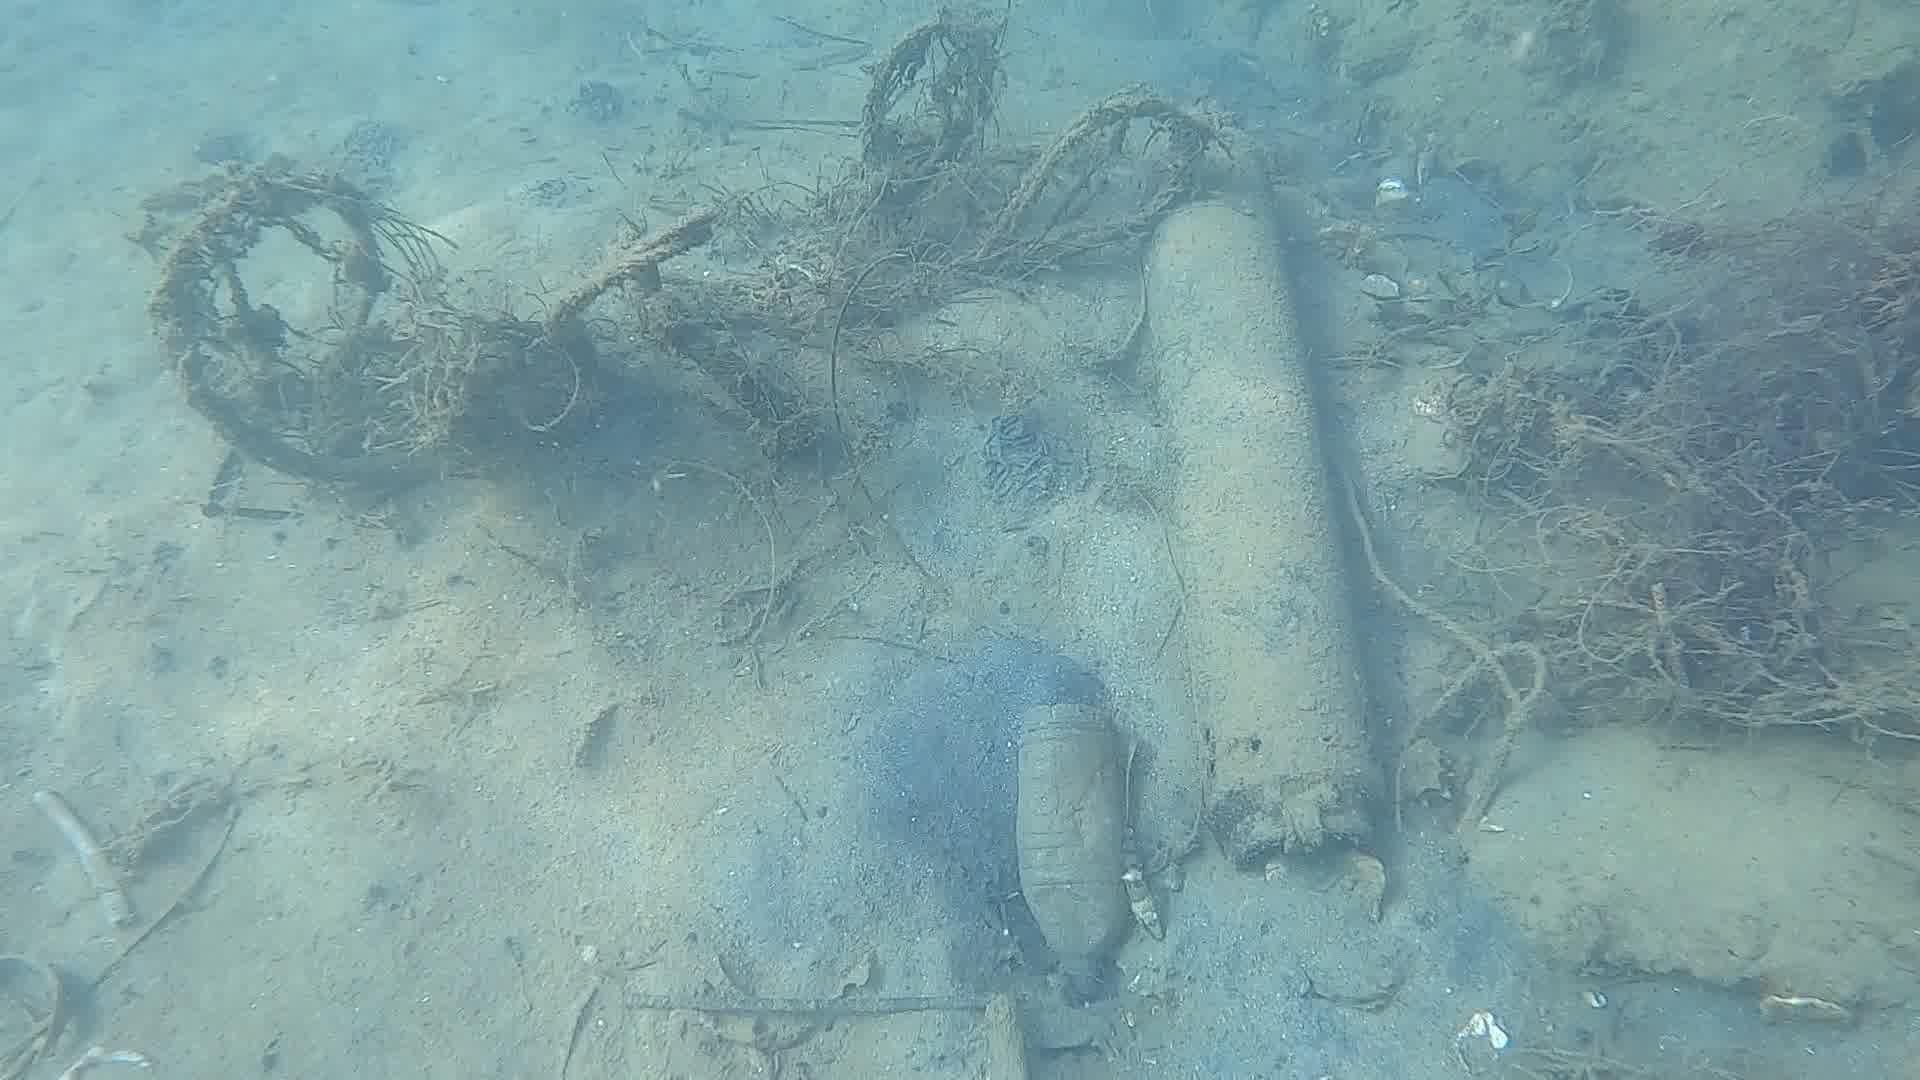eel fish trap: (1137, 115, 1389, 876)
